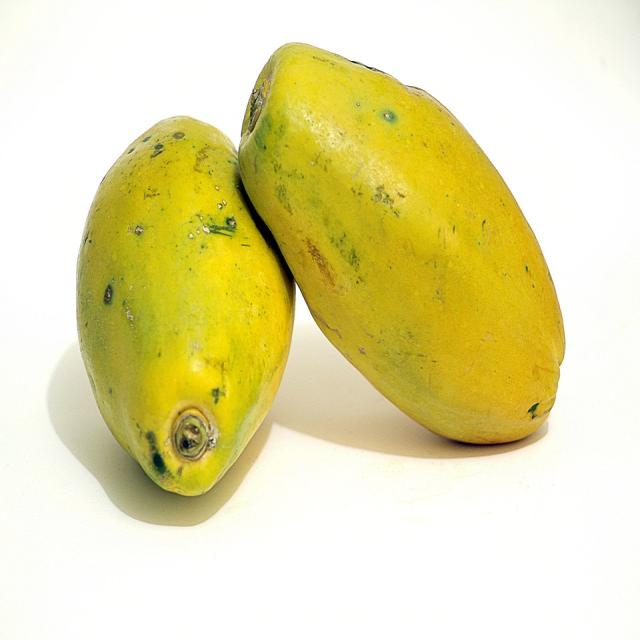Pepaya rippen: (242, 44, 574, 455), (73, 97, 294, 508)
